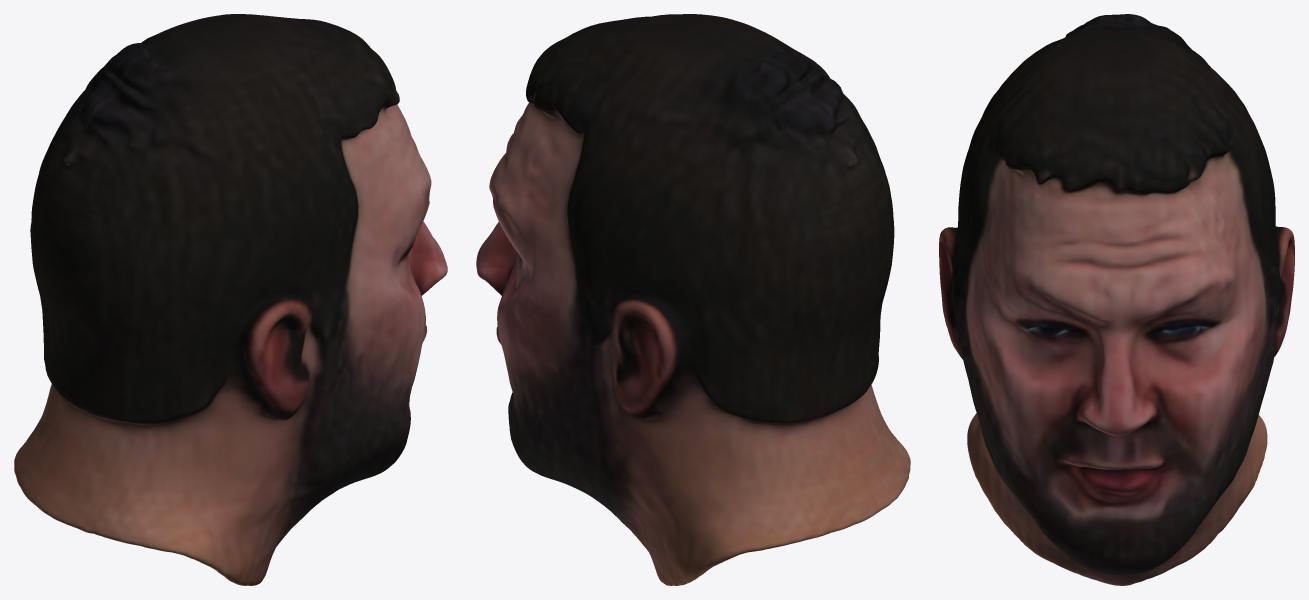
Rendered from f22662eddb77_bert_kreischer__det.fbx.
3 views of the same model, side by side, from view 1: azimuth 30°, elevation 25°; view 2: azimuth 150°, elevation 25°; view 3: azimuth 270°, elevation 25° (orthographic).
Parts seen in each view (by area): view 1: high_poly; view 2: high_poly; view 3: high_poly.
Boxes of the visible parts, x1,y1,x2,y2 form: high_poly: (14,14,447,585); high_poly: (476,14,910,585); high_poly: (939,14,1294,585).
Bounding box in the file's own units: 78.61 × 100 × 61.04.
